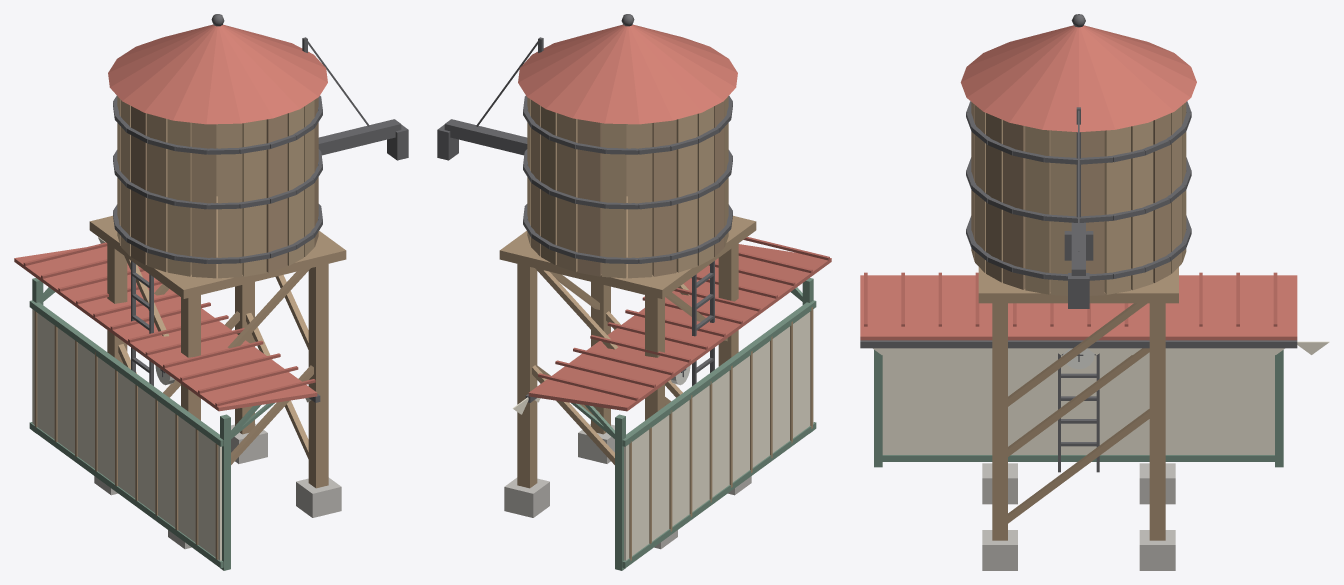
The model's file is halt_kit.glb.
3 renders of one model, left to right at view 1: azimuth 30°, elevation 25°; view 2: azimuth 150°, elevation 25°; view 3: azimuth 270°, elevation 25°, orthographic. The views are drawn at different scales.
Parts seen in each view (by area): view 1: fh_tank_mesh, fh_shelter_mesh; view 2: fh_tank_mesh, fh_shelter_mesh; view 3: fh_tank_mesh, fh_shelter_mesh.
Part boxes in pixels (box(x1,y1,x2,y2)): fh_tank_mesh: box(89, 14, 408, 549); fh_shelter_mesh: box(14, 237, 320, 570); fh_tank_mesh: box(437, 14, 756, 549); fh_shelter_mesh: box(512, 237, 831, 570); fh_tank_mesh: box(960, 14, 1196, 570); fh_shelter_mesh: box(860, 272, 1329, 467).
Size of the model in its own units: 4.95 by 7.95 by 6.55.
